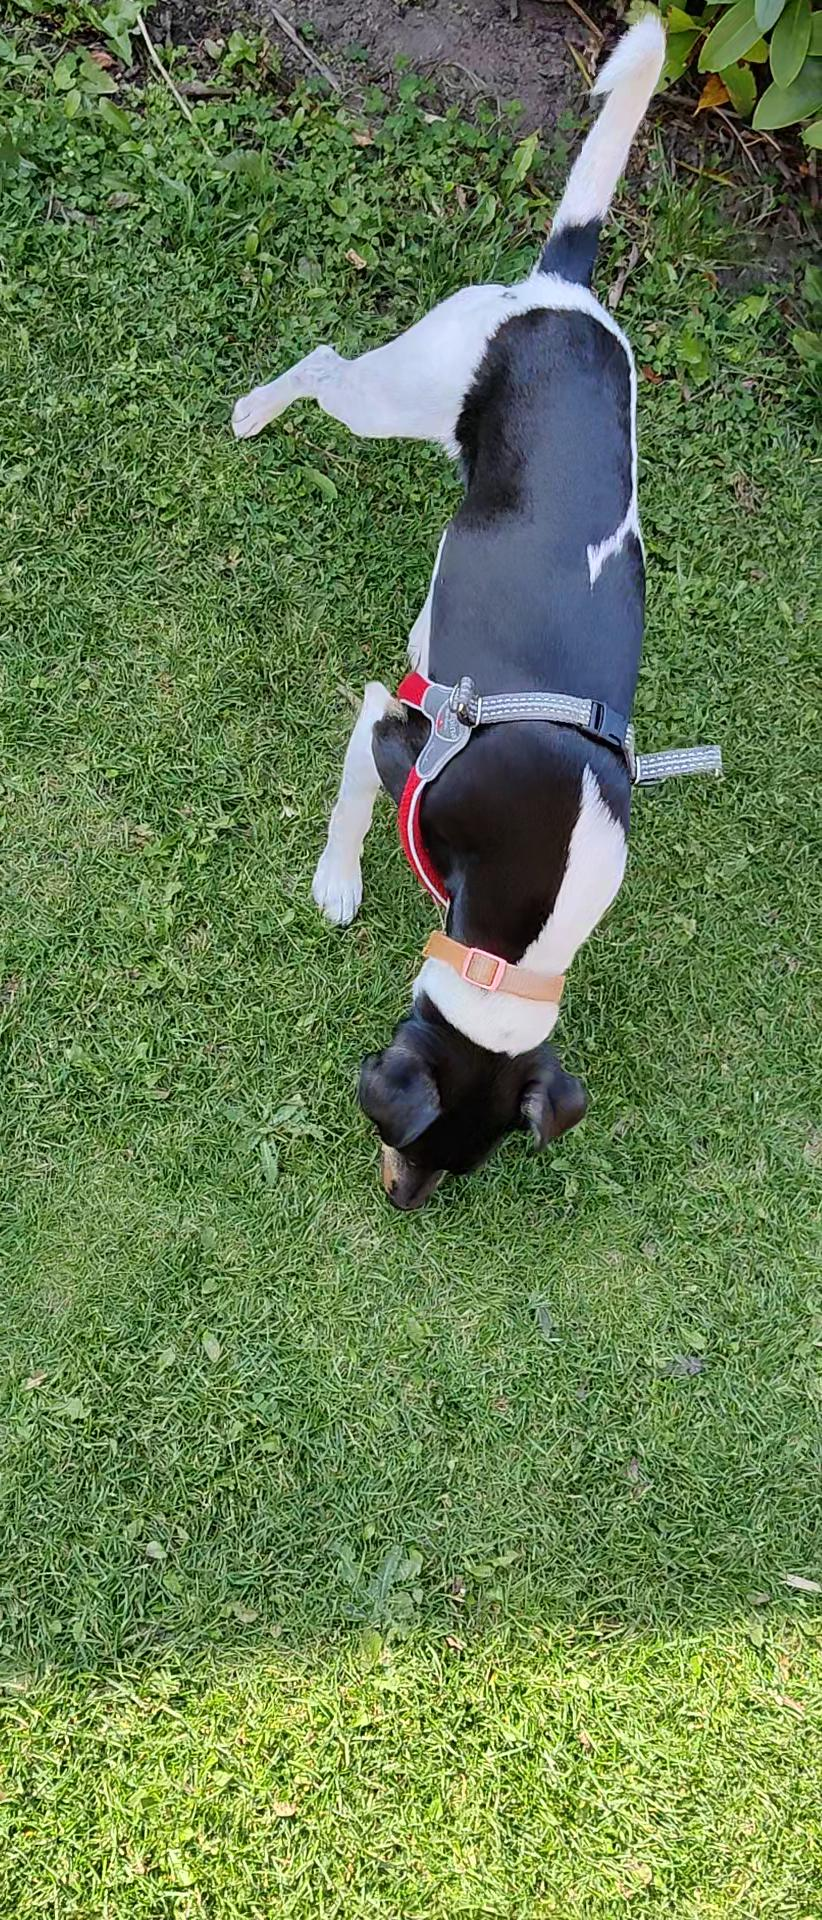Dog: (209, 4, 695, 1221)
